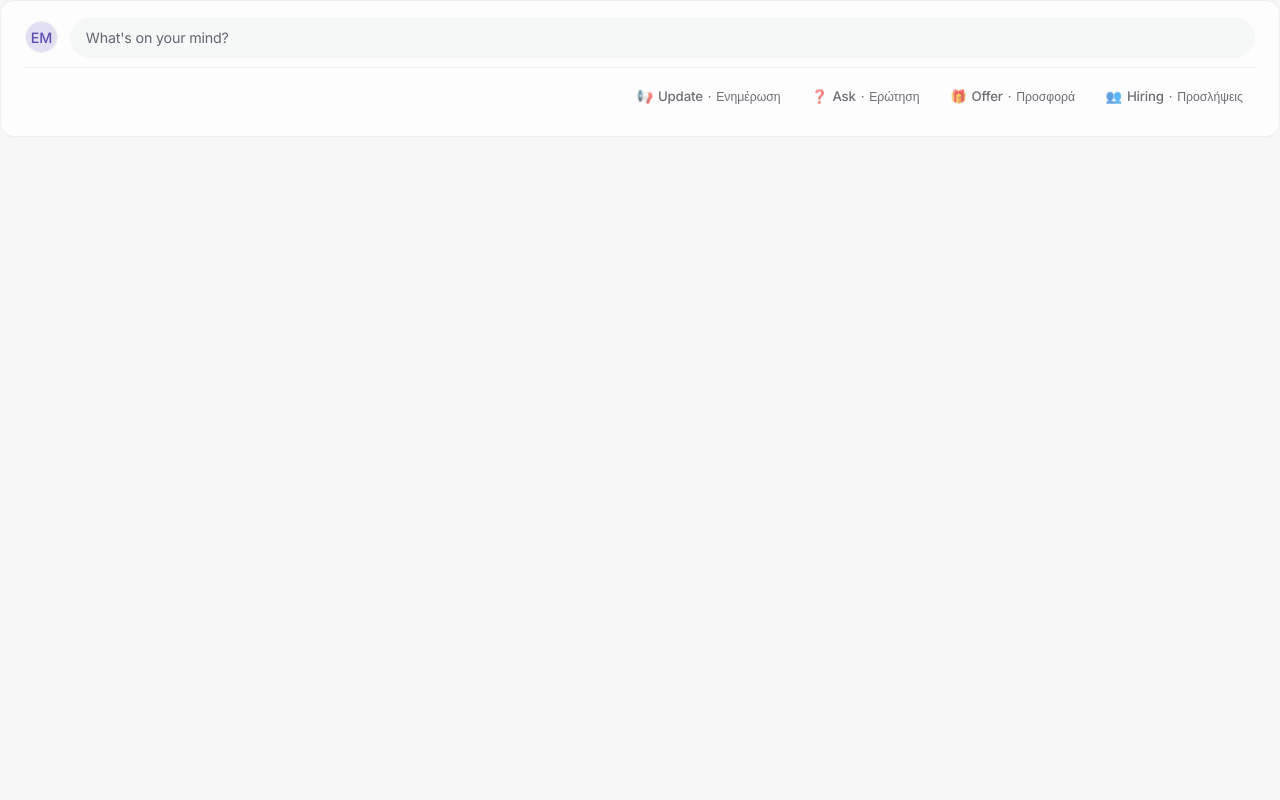
Test case: CreatePost › labels content and tags durably
Click the button "What's on your mind?": (157, 37) [70, 17, 1255, 58]
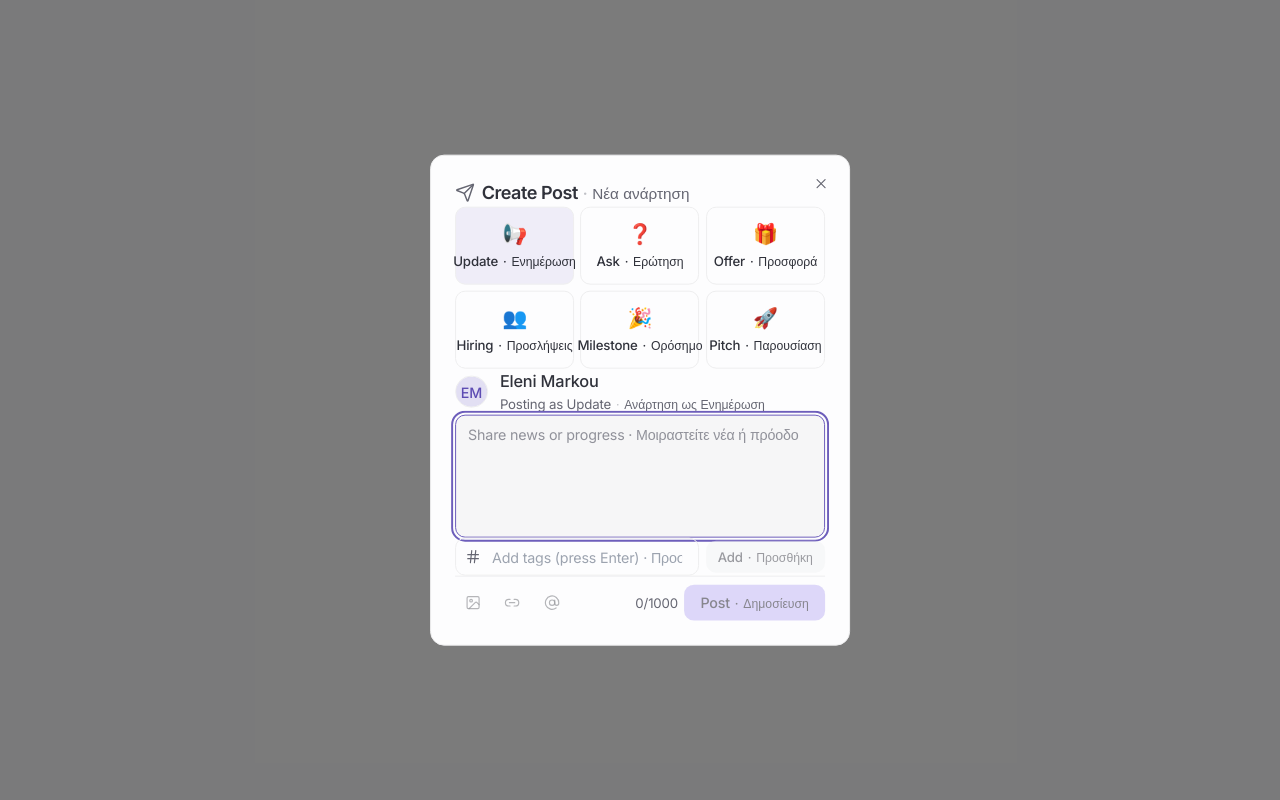
Result: the text box named "Post content" is shown at [455, 414, 825, 537]
Result: the field labelled "Add tags (press Enter) · Προσθήκη ετικετών (πατήστε Enter)" is shown at [455, 537, 699, 576]
